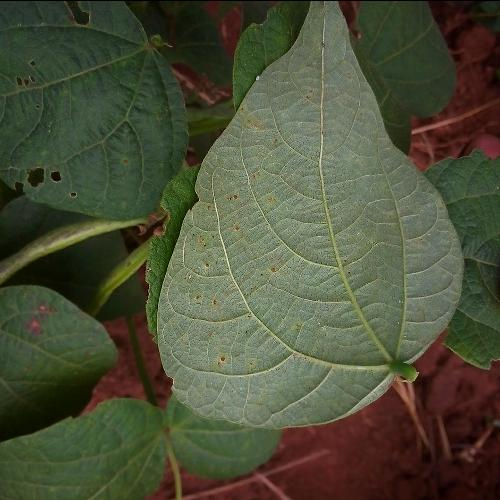hawar: (180, 115, 290, 386)
